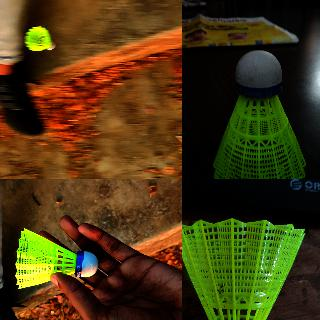shuttlecock: (182, 217, 312, 319), (214, 50, 307, 178), (14, 228, 98, 288), (23, 24, 55, 52)
